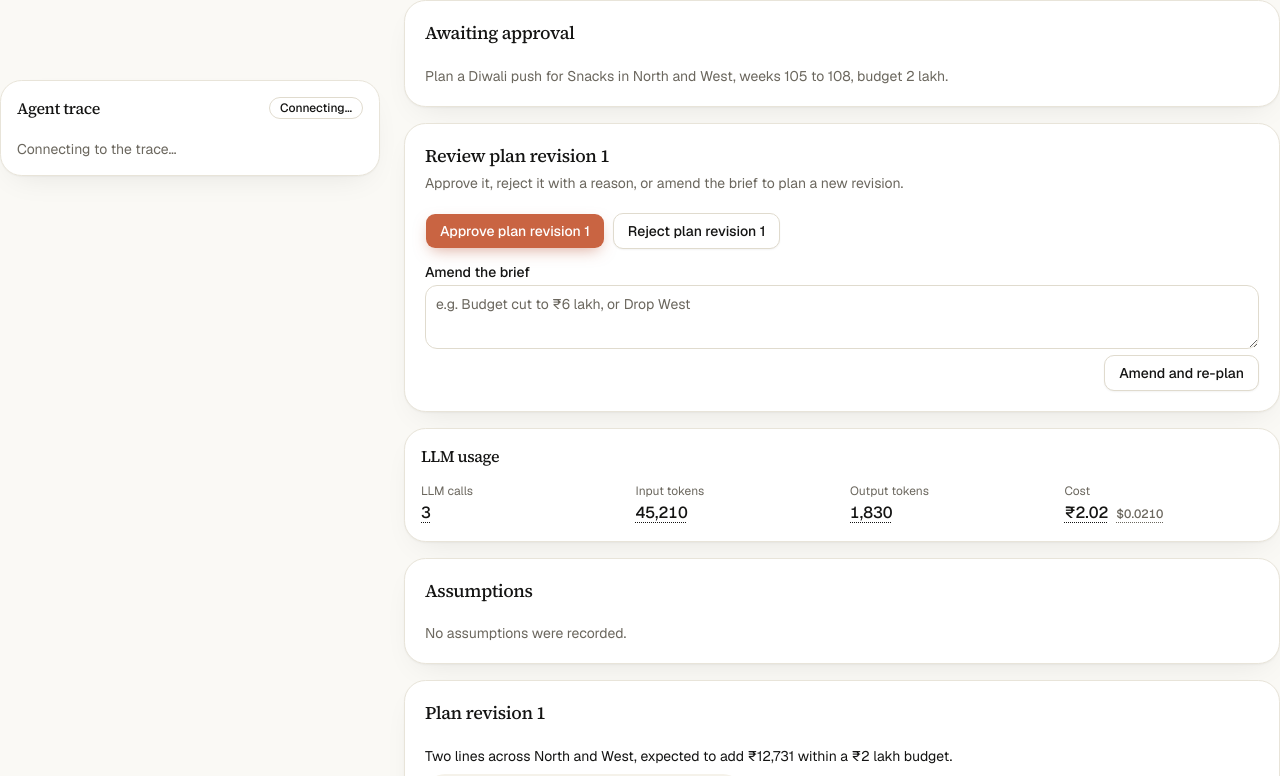
Test: SessionView › keeps the review and shows the reason when a conflict leaves the session as it was
The image size is (1280, 776).
Click the button "Approve plan revision 1" at (515, 230), box [425,212,605,248]
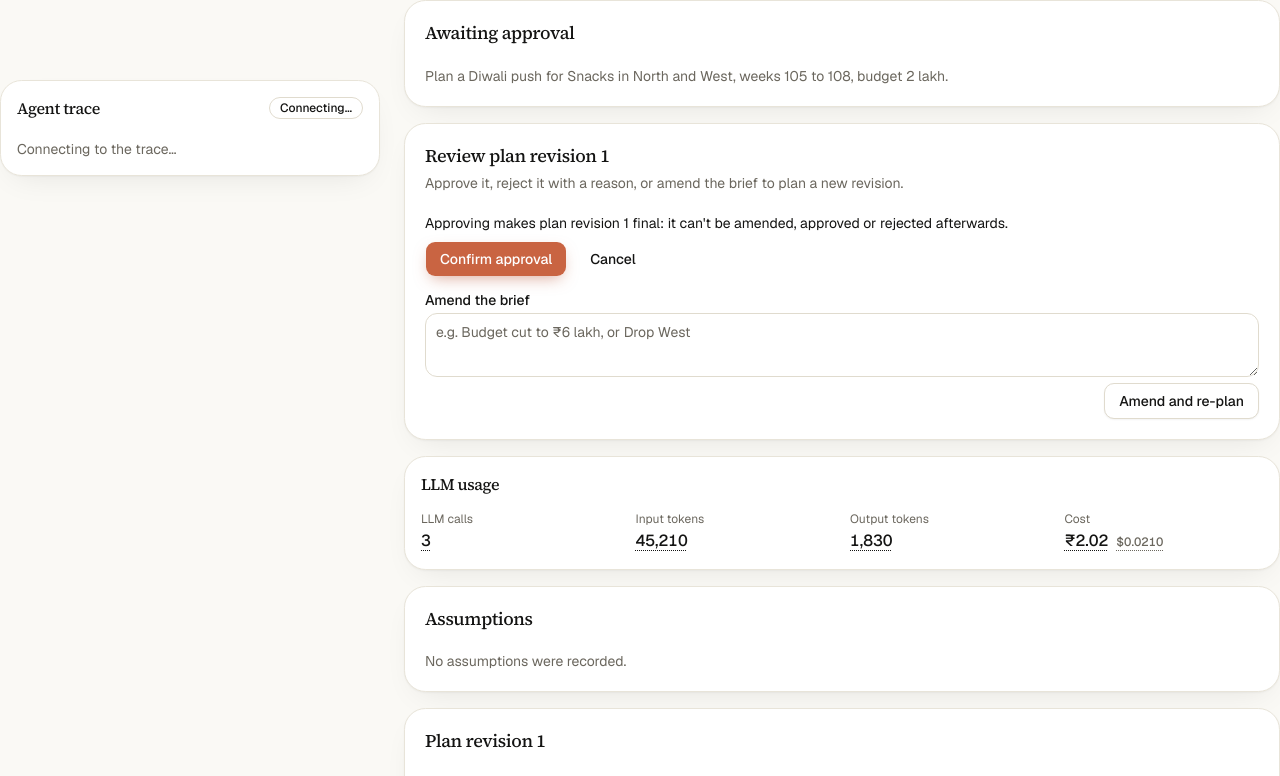
Click the button "Confirm approval" at (496, 258), box [425,240,567,276]
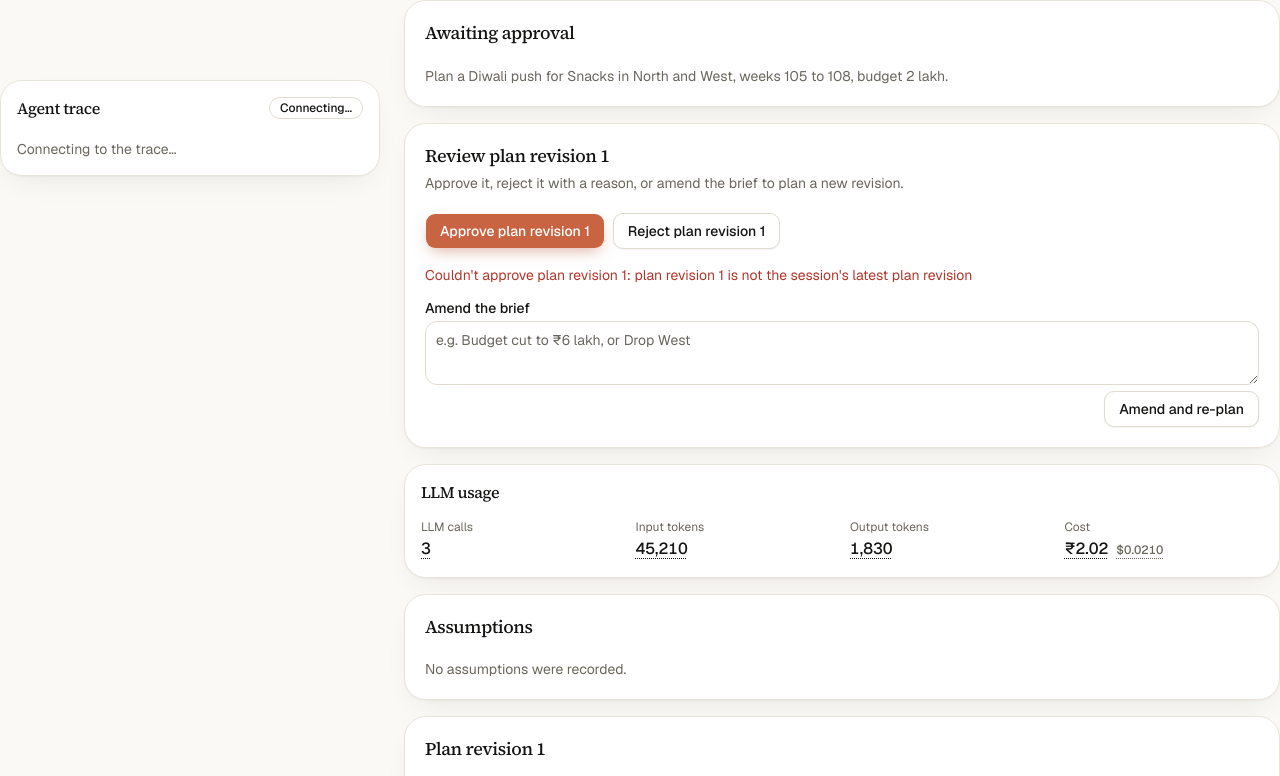
Expected: the 2nd message shows "Couldn't approve plan revision 1: plan revision 1 is not the session's latest plan revision", [425,266,972,284]
